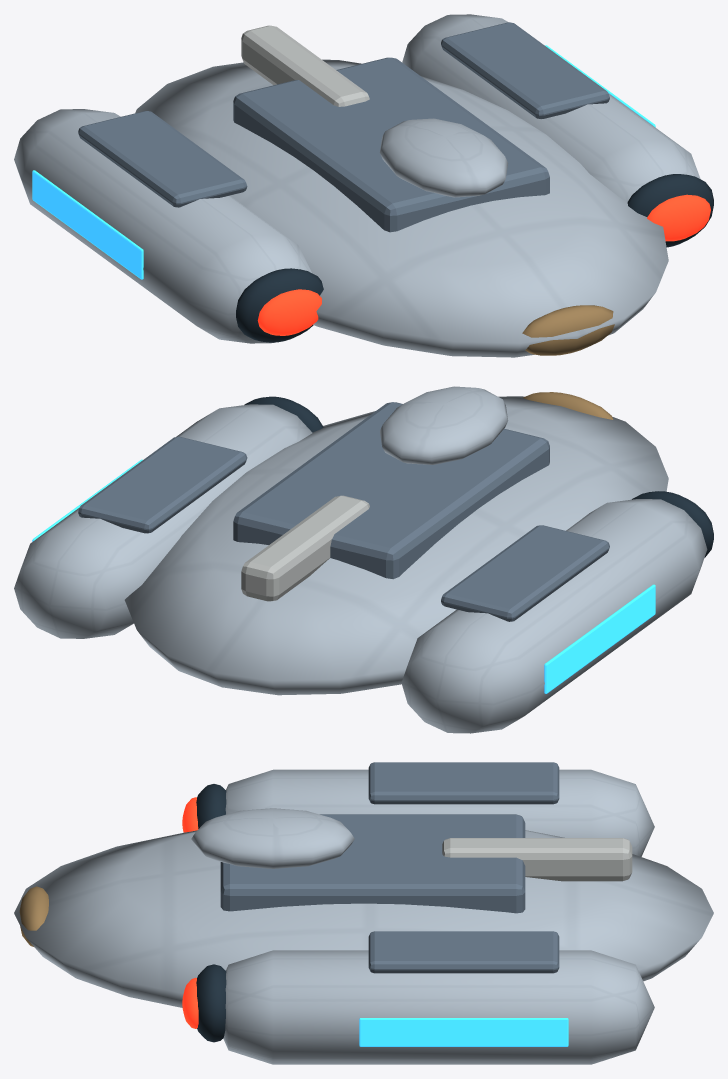
File: Escort_Runtime_LOD2.glb
3 views of the same model, one above another, from view 1: azimuth 30°, elevation 25°; view 2: azimuth 150°, elevation 25°; view 3: azimuth 270°, elevation 25° (orthographic). The views are drawn at different scales.
Parts seen in each view (by area): view 1: Escort_LOD2; view 2: Escort_LOD2; view 3: Escort_LOD2.
Part boxes in pixels (x1,y1,x2,y2): Escort_LOD2: (14,14,713,357); Escort_LOD2: (14,386,713,733); Escort_LOD2: (14,762,713,1064).
Bounding box in the file's own units: 138 × 39.74 × 170.
Materials: 1 (1 with a texture image).
